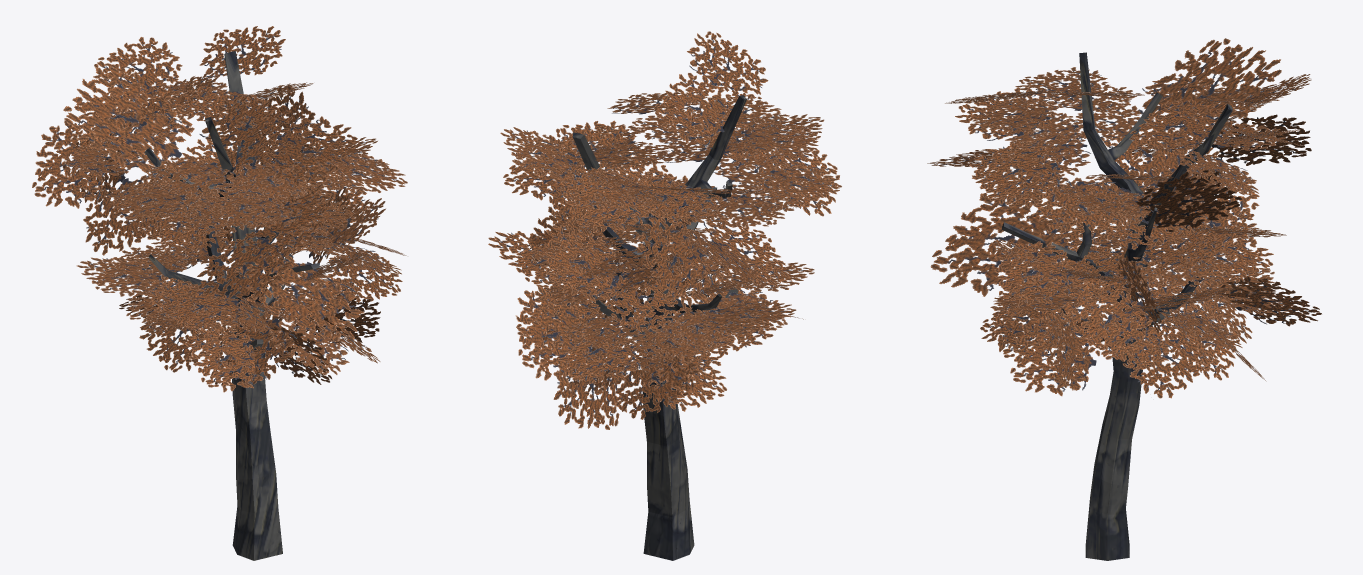
Rendered from TreeWithalotofLeaves.fbx.
3 views of the same model, side by side, from view 1: azimuth 30°, elevation 25°; view 2: azimuth 150°, elevation 25°; view 3: azimuth 270°, elevation 25° (orthographic). The views are drawn at different scales.
Parts seen in each view (by area): view 1: Treebody.003, Plane.113, Plane.081, Plane.144, Plane.138, Plane.127, Plane.075, Plane.142, Plane.146, Plane.096, Plane.071, Plane.131 (+43 smaller); view 2: Treebody.003, Plane.130, Plane.137, Plane.141, Plane.142, Plane.106, Plane.144, Plane.145, Plane.095, Plane.146, Plane.133, Plane.121 (+44 smaller); view 3: Treebody.003, Plane.081, Plane.113, Plane.123, Plane.117, Plane.129, Plane.107, Plane.086, Plane.064, Plane.109, Plane.105, Plane.130 (+36 smaller).
Part boxes in pixels (<box>): Treebody.003: <box>144,51,319,560</box>; Plane.113: <box>63,66,194,175</box>; Plane.081: <box>234,245,364,341</box>; Plane.144: <box>263,116,357,186</box>; Plane.138: <box>32,120,110,208</box>; Plane.127: <box>197,239,293,299</box>; Plane.075: <box>185,325,266,392</box>; Plane.142: <box>199,94,292,154</box>; Plane.146: <box>83,175,167,255</box>; Plane.096: <box>93,37,182,101</box>; Plane.071: <box>199,26,285,77</box>; Plane.131: <box>244,183,333,253</box>; Treebody.003: <box>572,95,746,560</box>; Plane.130: <box>515,285,591,386</box>; Plane.137: <box>638,216,713,310</box>; Plane.141: <box>544,223,618,303</box>; Plane.142: <box>655,73,733,146</box>; Plane.106: <box>615,338,699,419</box>; Plane.144: <box>687,31,768,98</box>; Plane.145: <box>553,348,631,429</box>; Plane.095: <box>560,167,639,232</box>; Plane.146: <box>703,217,790,286</box>; Plane.133: <box>605,264,679,332</box>; Plane.121: <box>551,322,640,383</box>; Treebody.003: <box>1002,52,1232,560</box>; Plane.081: <box>930,181,1076,296</box>; Plane.113: <box>1138,38,1281,135</box>; Plane.123: <box>1062,279,1158,360</box>; Plane.117: <box>1010,313,1096,396</box>; Plane.129: <box>1136,170,1241,231</box>; Plane.107: <box>969,142,1059,203</box>; Plane.086: <box>994,241,1072,306</box>; Plane.064: <box>1126,316,1212,398</box>; Plane.109: <box>1033,181,1134,233</box>; Plane.105: <box>1129,99,1222,154</box>; Plane.130: <box>1218,276,1321,326</box>.
Size of the model in its own units: 1659 by 2129 by 1854.
